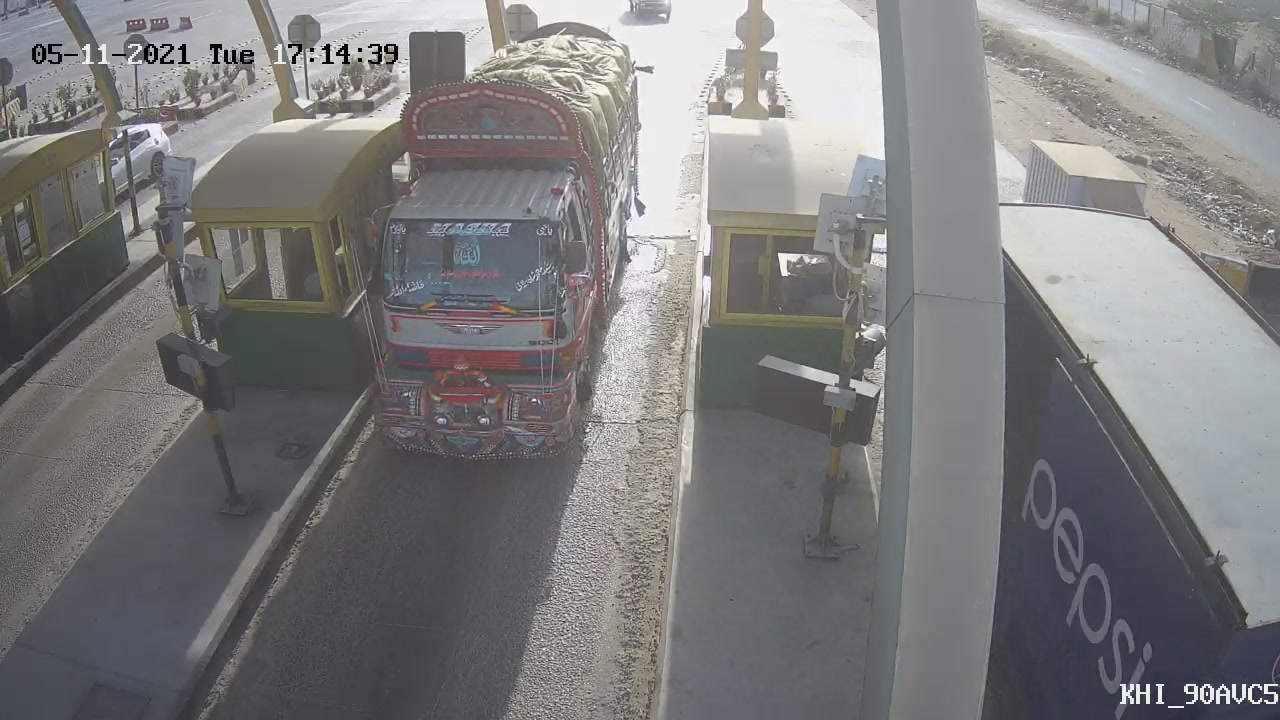F5: (325, 9, 677, 486)
